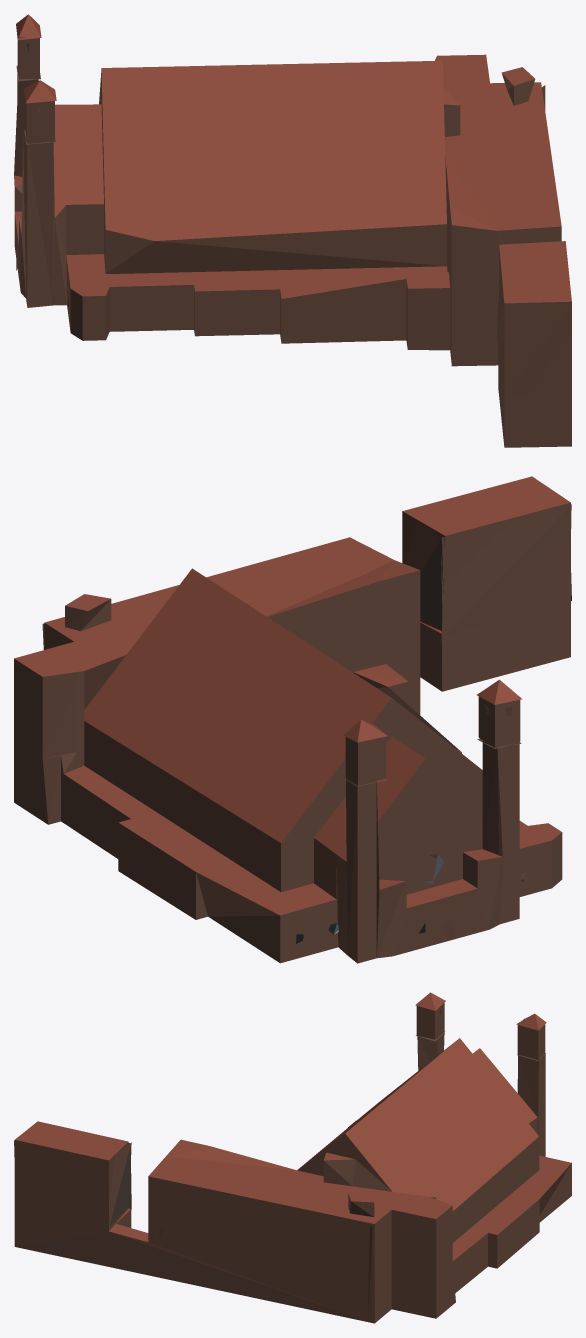
File: chassekerk.lod2.glb
The picture shows the model from 3 angles, top to bottom: view 1: azimuth 30°, elevation 25°; view 2: azimuth 150°, elevation 25°; view 3: azimuth 270°, elevation 25°; orthographic projection. The views are drawn at different scales.
Visible parts, largest first — view 1: lod2; view 2: lod2; view 3: lod2.
Part boxes in pixels (x1,y1,x2,y2): lod2: [14, 14, 571, 447]; lod2: [14, 476, 571, 963]; lod2: [14, 992, 571, 1323].
Bounding box in the file's own units: 53.77 × 23.54 × 72.55.
